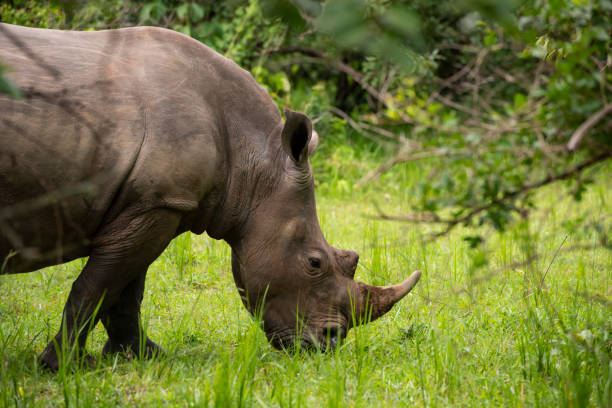rhino: (214, 87, 443, 363)
